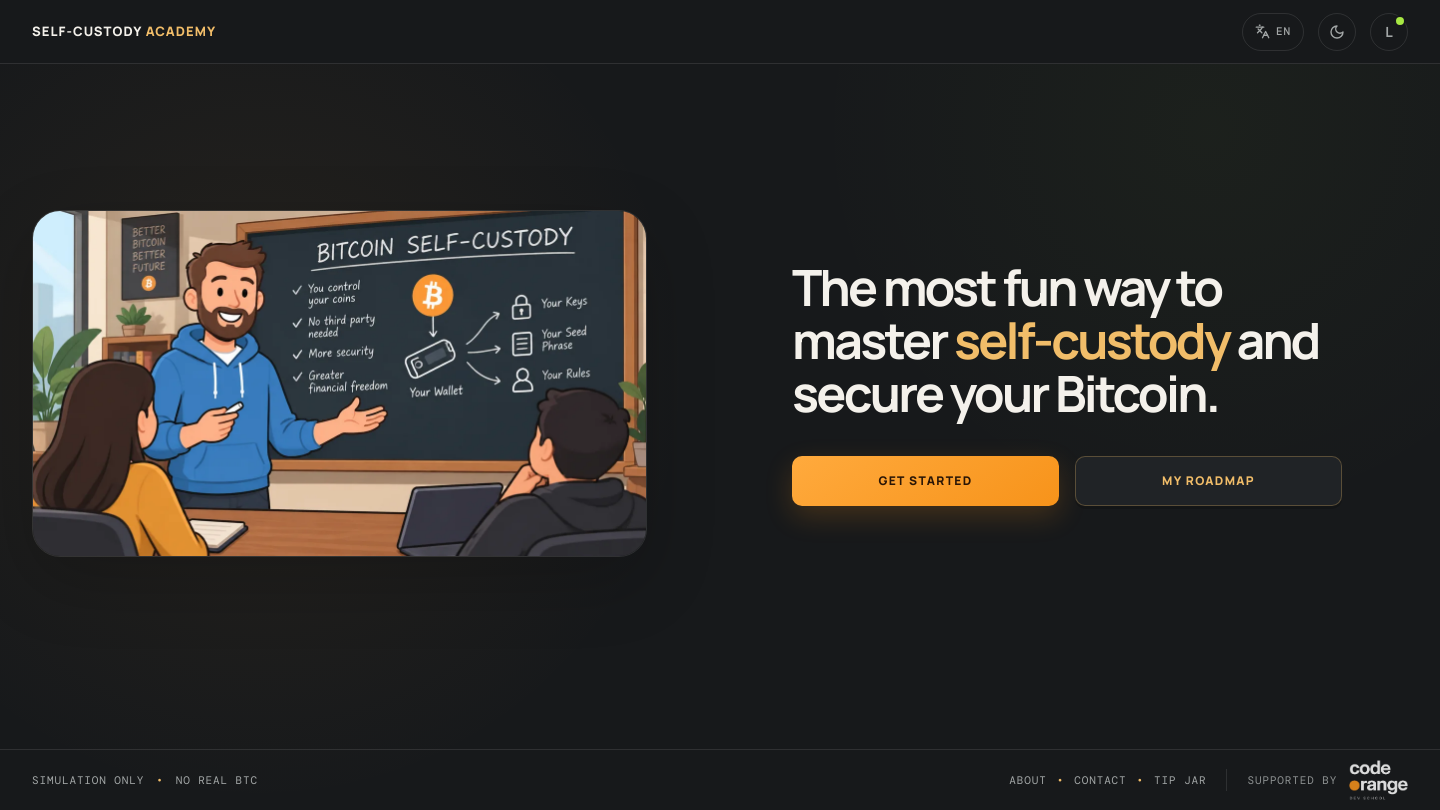
Test: account menu › loads saved progress on Home so it can offer the next lesson
Click the button "L". click: (1389, 32)
box: [1370, 12, 1408, 50]
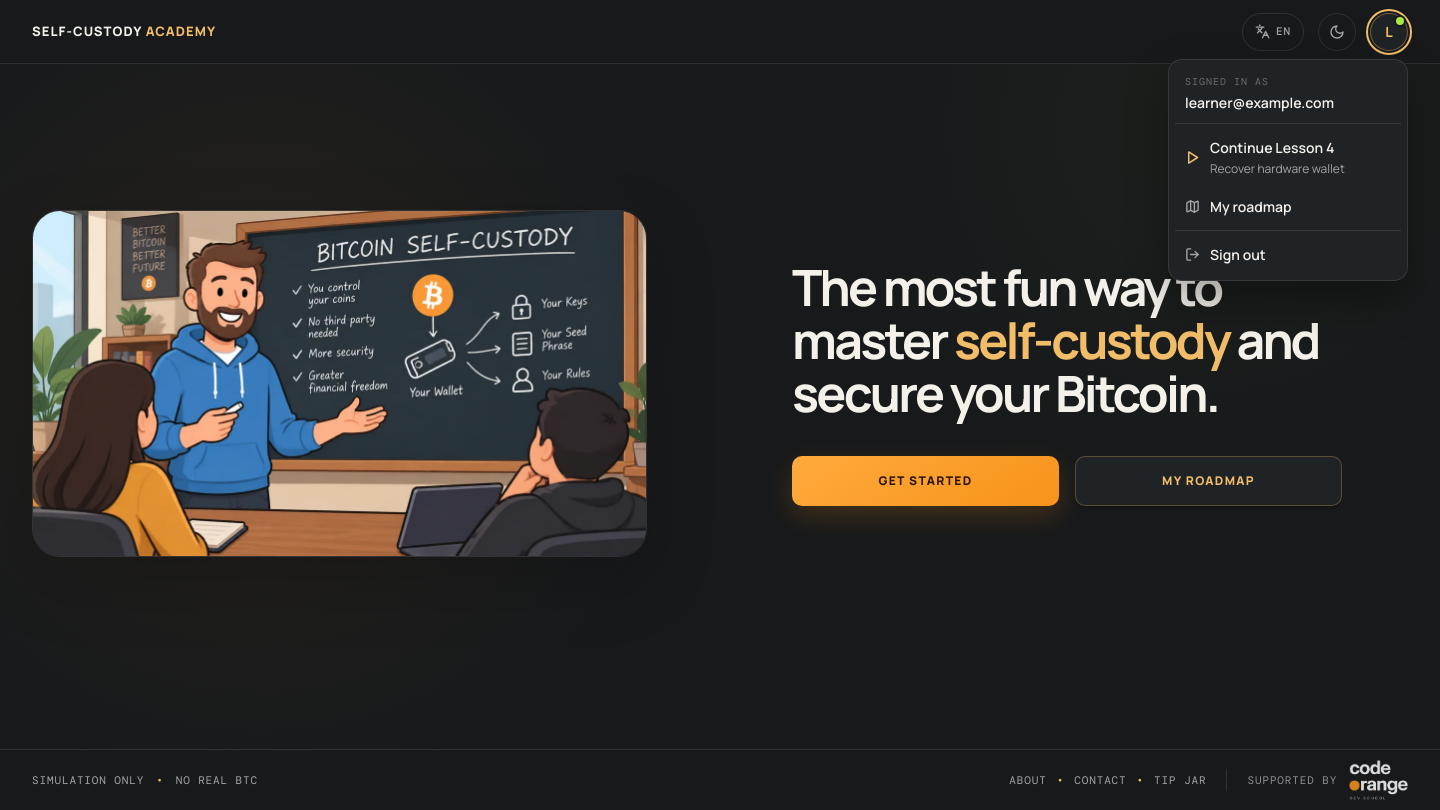
Click the menu item "Continue Lesson 4 Recover hardware wallet". click: (1265, 157)
box: [1185, 138, 1345, 176]
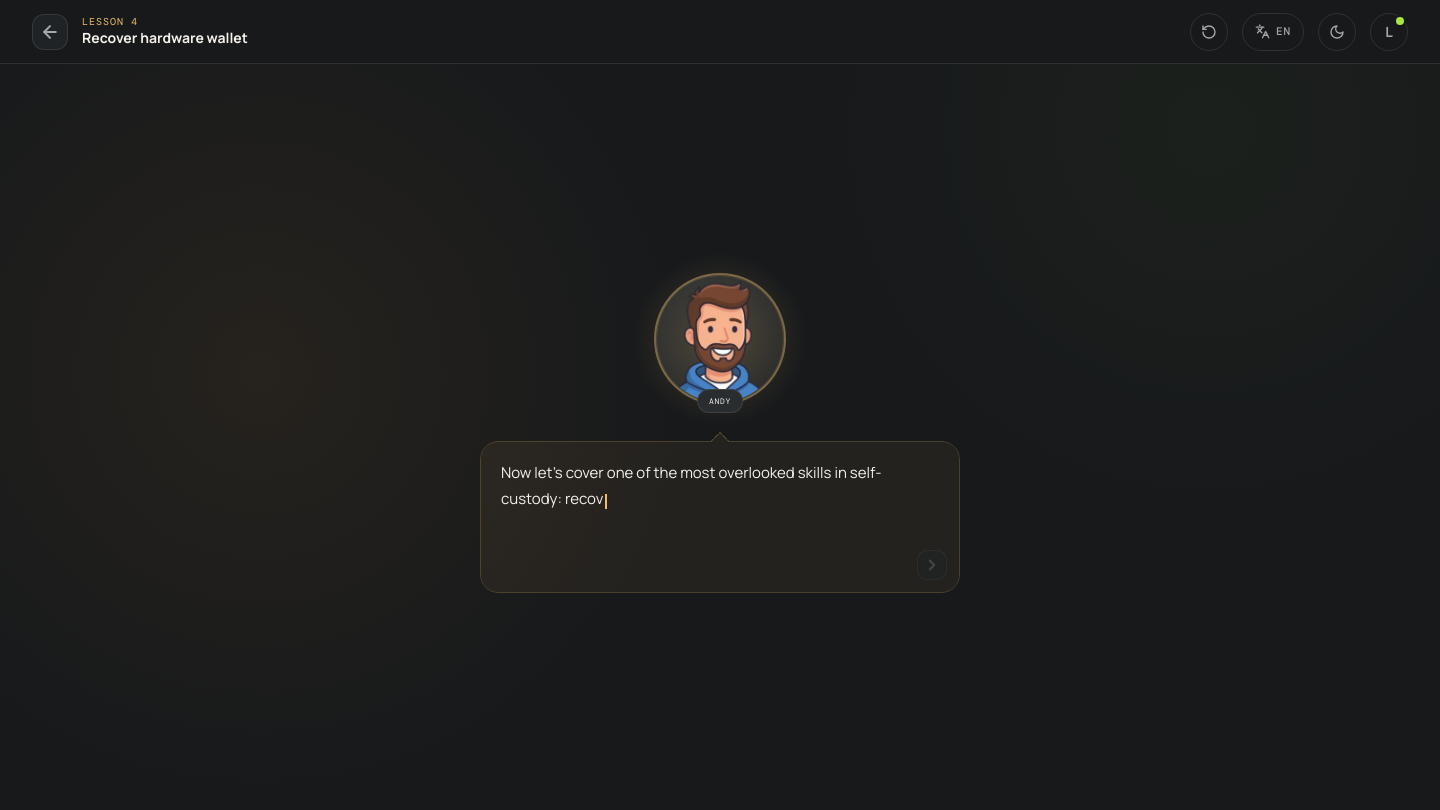
Now the button named "Back to roadmap" is shown, box [32, 14, 68, 50]
